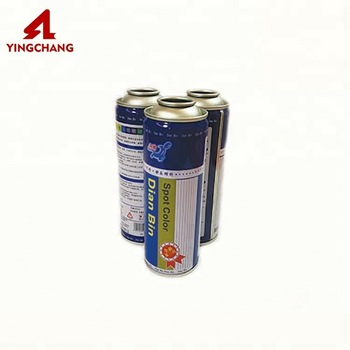metal: (142, 95, 209, 278), (114, 88, 163, 245), (186, 89, 229, 247)
